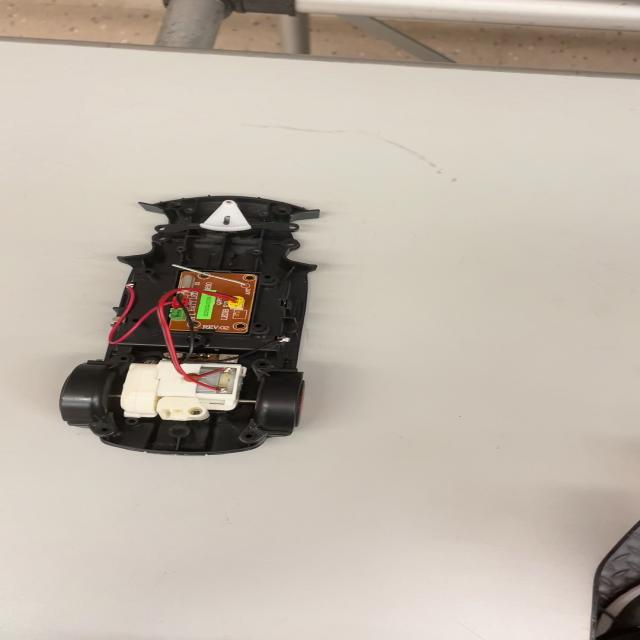Chassis: (69, 191, 322, 454)
